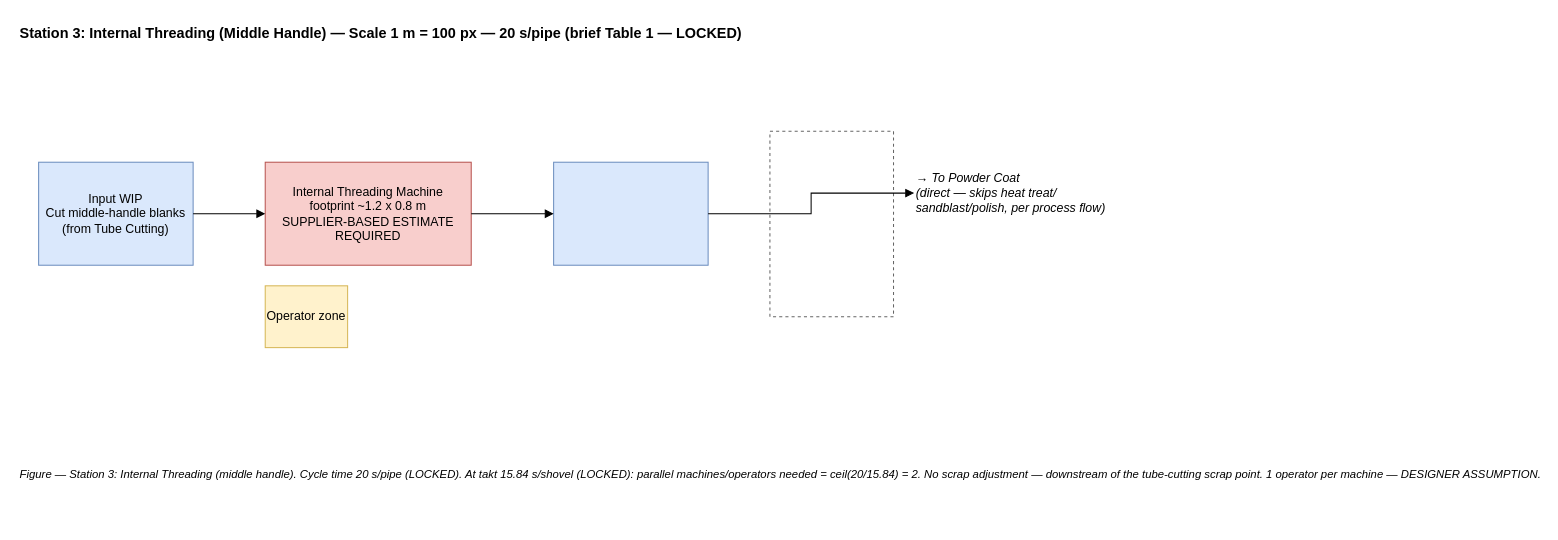
The diagram is 1558 pixels wide and 540 high, and some of its shapes have lost their labels. The shapes that lost their labels are listed below. From the top down, each one's centre as x and y in pixels, then its label:
point 630,213: Output WIP Threaded middle handles
point 831,223: Trolley Aisle 1.5 m
